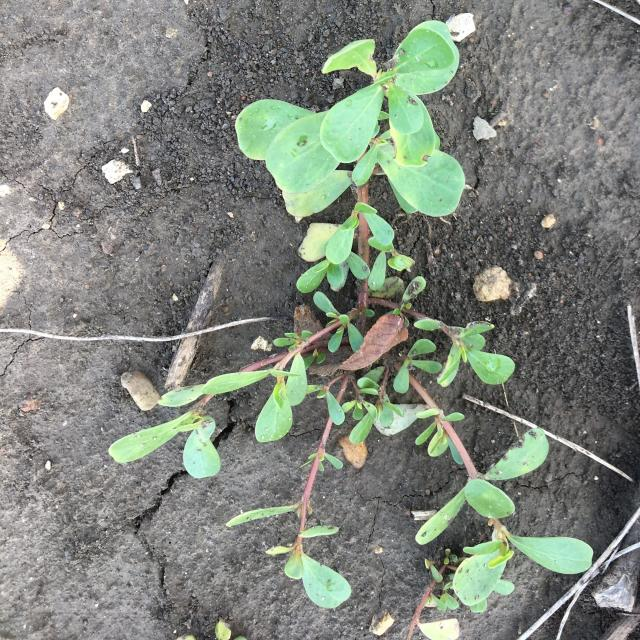Purslane: (108, 20, 594, 609)
